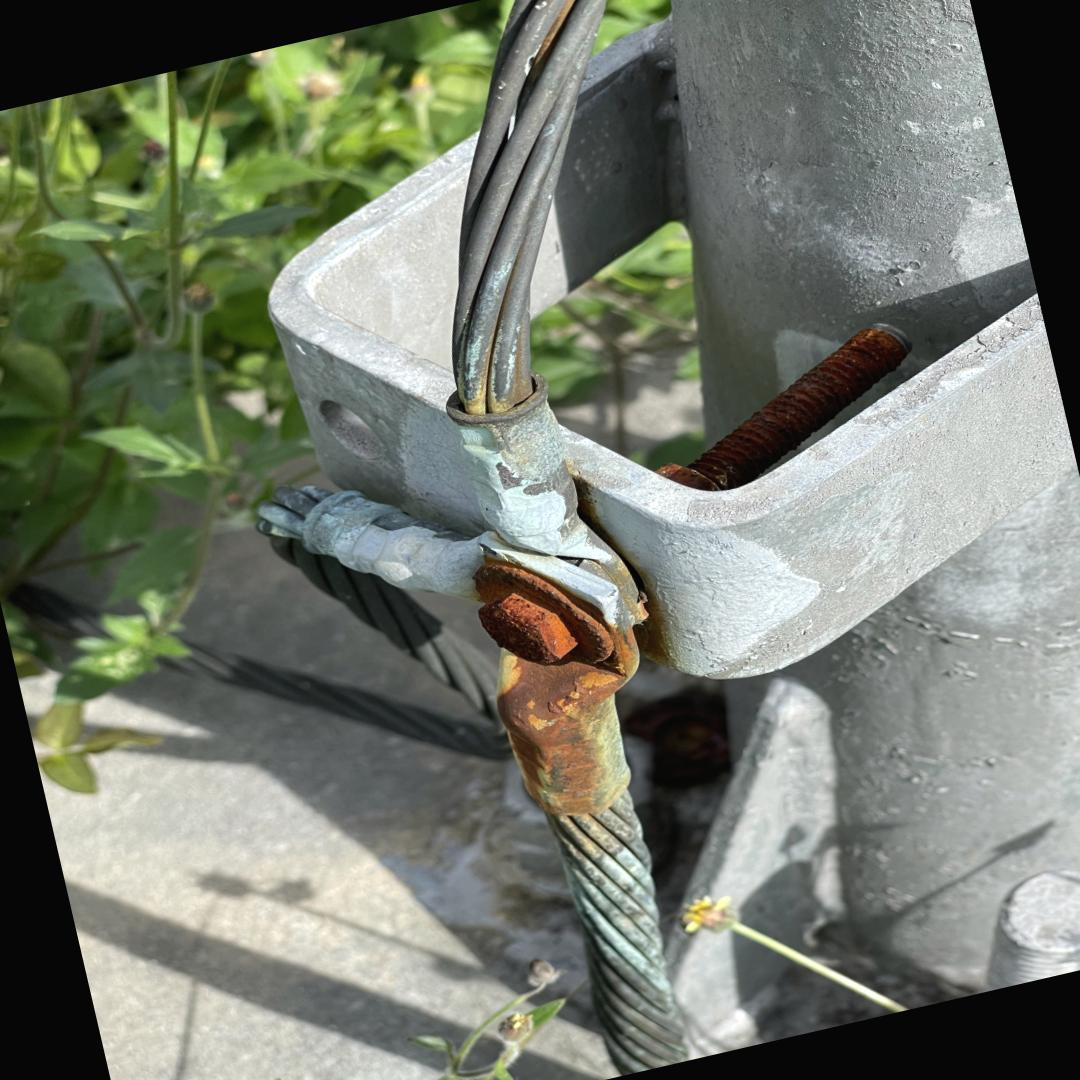Metal: (259, 0, 1080, 1077)
Metal corroido: (655, 323, 912, 491), (475, 561, 640, 820)
